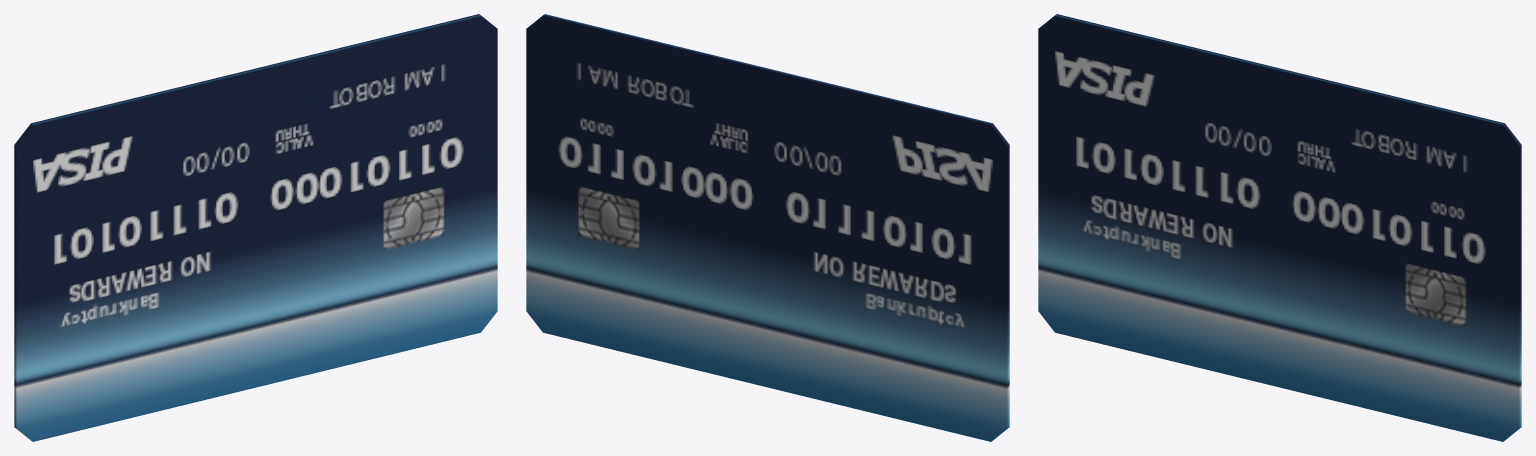
Rendered from MeshCube_001_0.obj.
3 renders of one model, left to right at view 1: azimuth 30°, elevation 25°; view 2: azimuth 150°, elevation 25°; view 3: azimuth 330°, elevation 25°, orthographic.
Visible parts, largest first — view 1: Cube_001; view 2: Cube_001; view 3: Cube_001.
Part boxes in pixels (left/top/right/bottom): Cube_001: left=14, top=14, right=497, bottom=441; Cube_001: left=526, top=14, right=1009, bottom=441; Cube_001: left=1038, top=14, right=1521, bottom=441.
Bounding box in the file's own units: 5.64 × 3.55 × 0.0403.
Materials: 1 (1 with a texture image).
